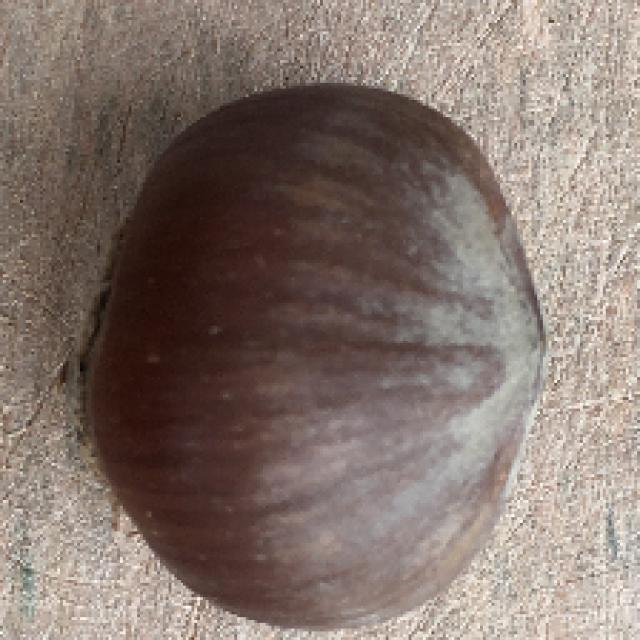DamagedHazelnut: (78, 83, 548, 628)
